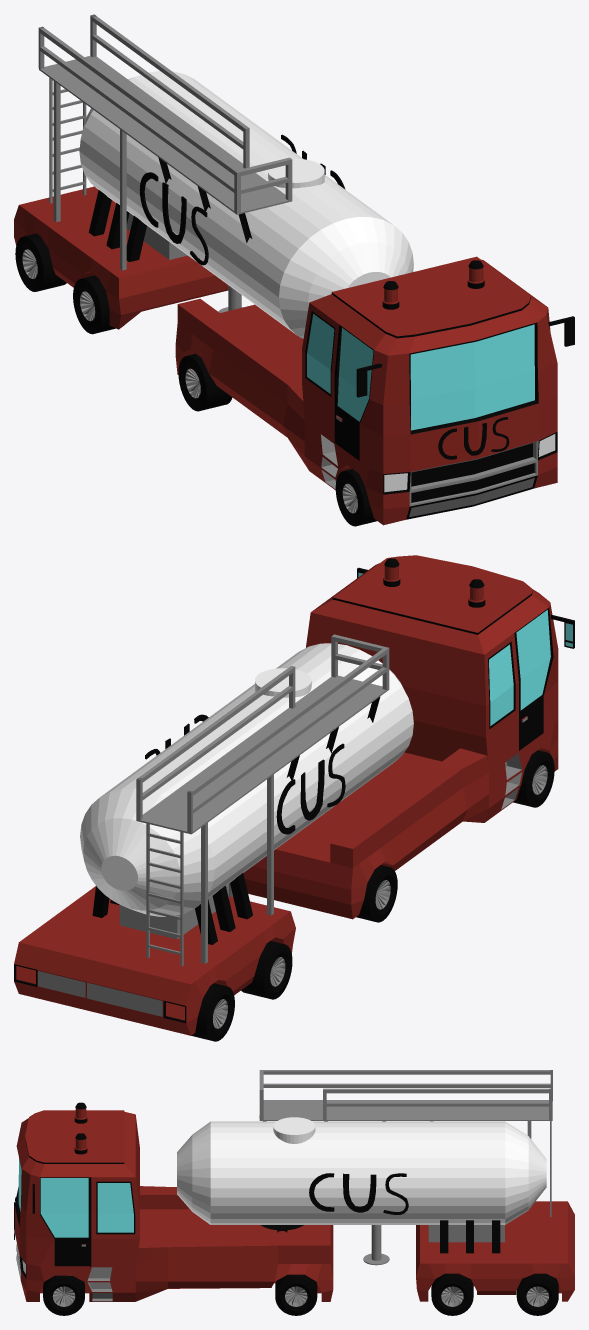
The model's file is camion.gltf.
The picture shows the model from 3 angles, top to bottom: view 1: azimuth 30°, elevation 25°; view 2: azimuth 150°, elevation 25°; view 3: azimuth 270°, elevation 25°; orthographic projection. The views are drawn at different scales.
Visible parts, largest first — view 1: Cube; view 2: Cube; view 3: Cube.
Part boxes in pixels (x1=…): Cube: x1=14, y1=14, x2=574, y2=526; Cube: x1=14, y1=555, x2=574, y2=1041; Cube: x1=14, y1=1070, x2=574, y2=1315.
Bounding box in the file's own units: 0.0888 × 0.0979 × 0.269.
Materials: 1 (1 with a texture image).
